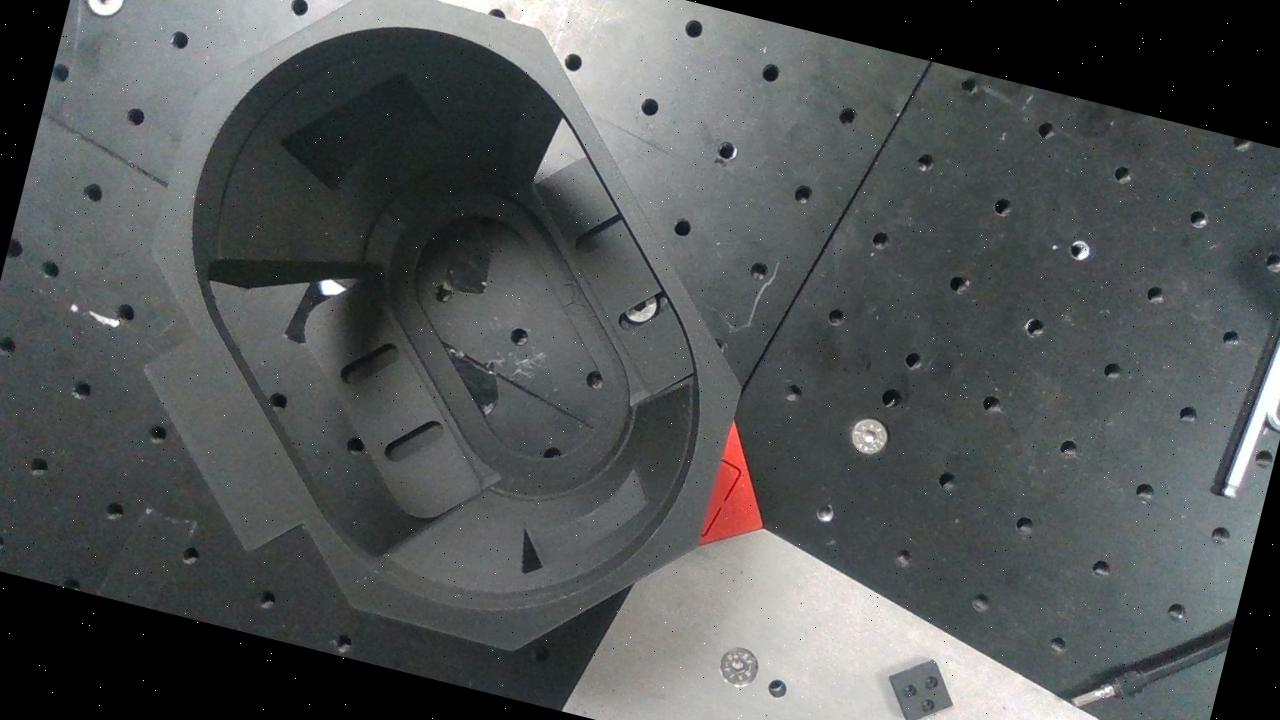big_interface: (75, 0, 816, 692)
